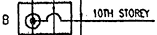Single Phase Tap-Off Unit: (14, 1, 77, 35)
